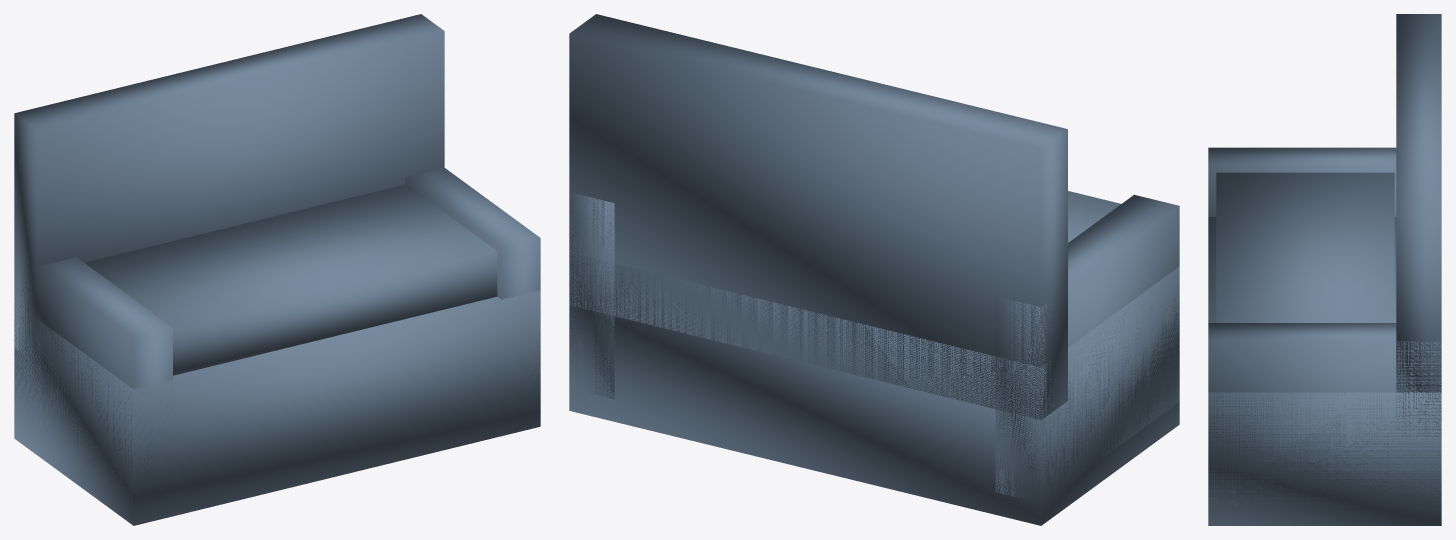
File: loveseat__compact.glb
The picture shows the model from 3 angles, left to right: view 1: azimuth 30°, elevation 25°; view 2: azimuth 150°, elevation 25°; view 3: azimuth 270°, elevation 25°; orthographic projection. The views are drawn at different scales.
Visible parts, largest first — view 1: world; view 2: world; view 3: world.
Boxes of the visible parts, x1,y1,x2,y2 form: world: [14, 14, 540, 525]; world: [569, 14, 1179, 525]; world: [1208, 14, 1441, 525].
Size of the model in its own units: 1.22 by 0.9579 by 0.6192.
